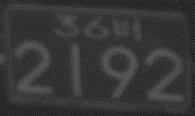1: (57, 43, 94, 97)
2: (144, 47, 185, 103), (13, 39, 53, 95)
3: (53, 12, 80, 38)
6: (82, 14, 109, 39)
9: (99, 45, 138, 98)
버: (112, 15, 142, 41)
